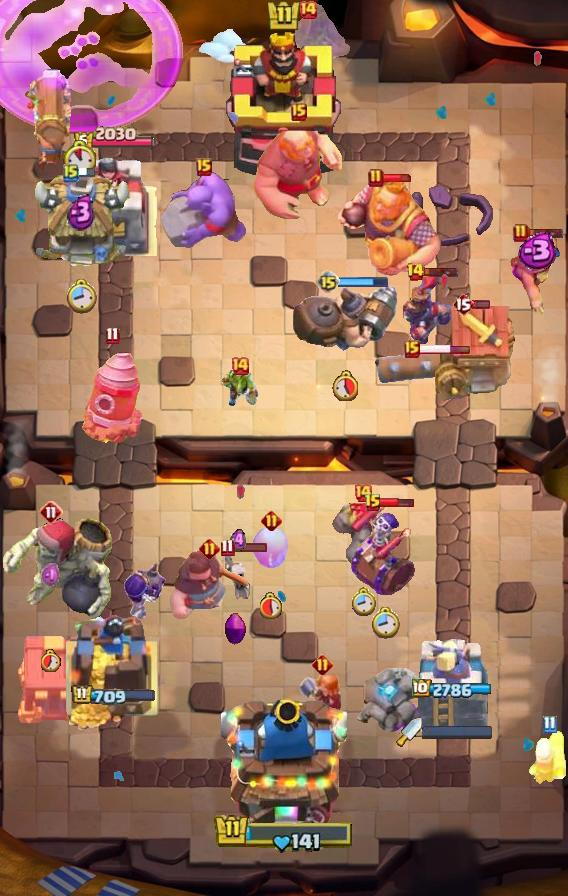archer-queen: (156, 171, 252, 251)
balloon: (252, 119, 346, 221)
bar: (416, 637, 490, 731)
barbarian-hut: (287, 0, 361, 76)
battle-healer: (26, 69, 72, 173)
bomb: (15, 632, 95, 726)
clock: (214, 814, 354, 855)
electro-giant: (0, 515, 116, 625)
electro-spirit: (514, 231, 558, 269), (67, 193, 96, 231), (41, 562, 62, 588), (230, 528, 246, 553)
elixir: (63, 140, 97, 176), (67, 279, 97, 315), (371, 608, 400, 641), (332, 371, 358, 402), (350, 586, 376, 616), (260, 592, 283, 619), (41, 648, 61, 672)
elixir-golem-big: (396, 271, 462, 351)
emote: (417, 344, 471, 356), (337, 276, 389, 288), (528, 227, 565, 239), (422, 266, 459, 278), (380, 497, 415, 509), (232, 542, 268, 553), (382, 173, 414, 183), (76, 166, 95, 177), (473, 299, 492, 310)
fireball: (505, 231, 565, 319)
giant-skeleton: (336, 176, 442, 278)
goblin-ball: (124, 554, 168, 620)
heal-spirit: (224, 548, 252, 600)
hog: (251, 526, 291, 570)
hog-rider: (298, 674, 346, 724)
king-tower: (224, 29, 344, 181), (221, 690, 347, 826)
king-tower-bar: (422, 725, 494, 739)
knight-evolution: (1, 0, 184, 134)
magic-archer: (82, 350, 142, 444)
minion: (374, 347, 474, 383)
prince: (30, 175, 132, 271)
queen-tower: (62, 613, 165, 731), (71, 156, 157, 256)
royal-hog: (166, 548, 252, 620)
selected: (73, 126, 155, 152), (71, 685, 157, 708), (412, 679, 494, 700)
skeleton-king-bar: (350, 499, 420, 599)
skeleton-king-skill: (224, 612, 246, 646)
sparky: (435, 305, 521, 403)
text: (316, 270, 340, 294), (39, 500, 63, 524), (452, 292, 474, 316), (261, 509, 282, 531), (199, 537, 220, 559), (311, 653, 332, 674), (298, 0, 318, 20), (230, 356, 250, 376), (353, 483, 373, 503), (406, 262, 425, 282), (364, 493, 382, 513), (63, 163, 79, 183), (368, 168, 384, 188), (513, 223, 529, 243), (291, 103, 307, 121), (196, 158, 212, 176), (404, 340, 420, 358), (220, 539, 235, 557), (543, 715, 557, 734), (105, 327, 119, 345)
tombstone: (526, 728, 568, 786)
valkyrie-evolution: (329, 501, 397, 571), (355, 668, 425, 736)
wizard: (289, 283, 401, 353)
zap: (220, 368, 260, 408)
